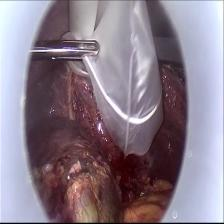Grasper: (32, 38, 100, 65)
Specimen Bag: (98, 0, 166, 162)
